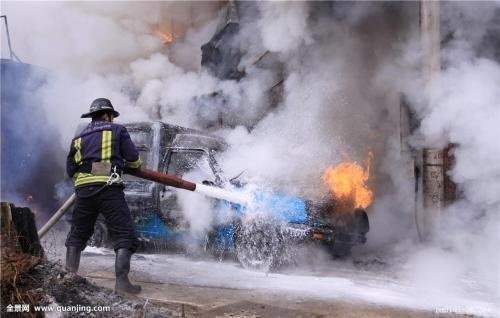fire: (318, 149, 377, 208)
